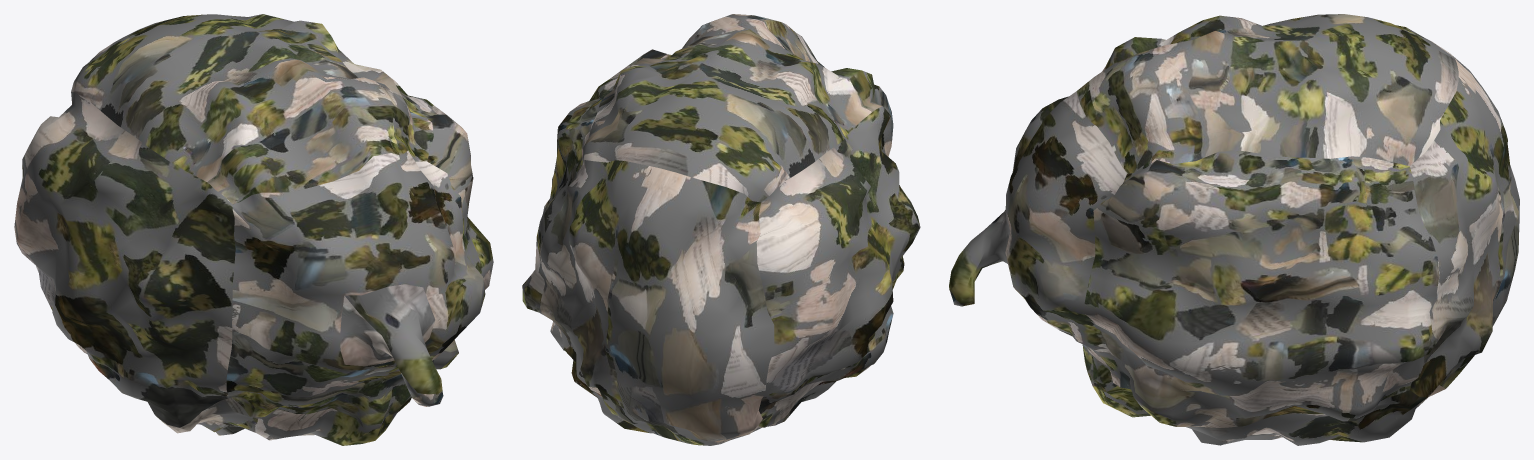
The picture shows the model from 3 angles, left to right: view 1: azimuth 30°, elevation 25°; view 2: azimuth 150°, elevation 25°; view 3: azimuth 270°, elevation 25°; orthographic projection. The views are drawn at different scales.
Size of the model in its own units: 0.7635 by 0.7651 by 1.
